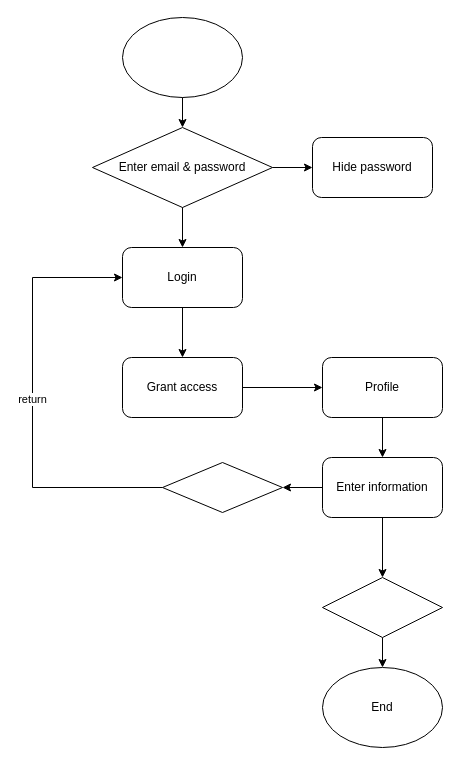
This 460x765 diagram has some shape labels left out. Here are the shapes that lost their labels. From the top down, the centre of each, then its label:
At pixel 182 57: "Start".
At pixel 222 487: "Cancel".
At pixel 382 607: "Update".
